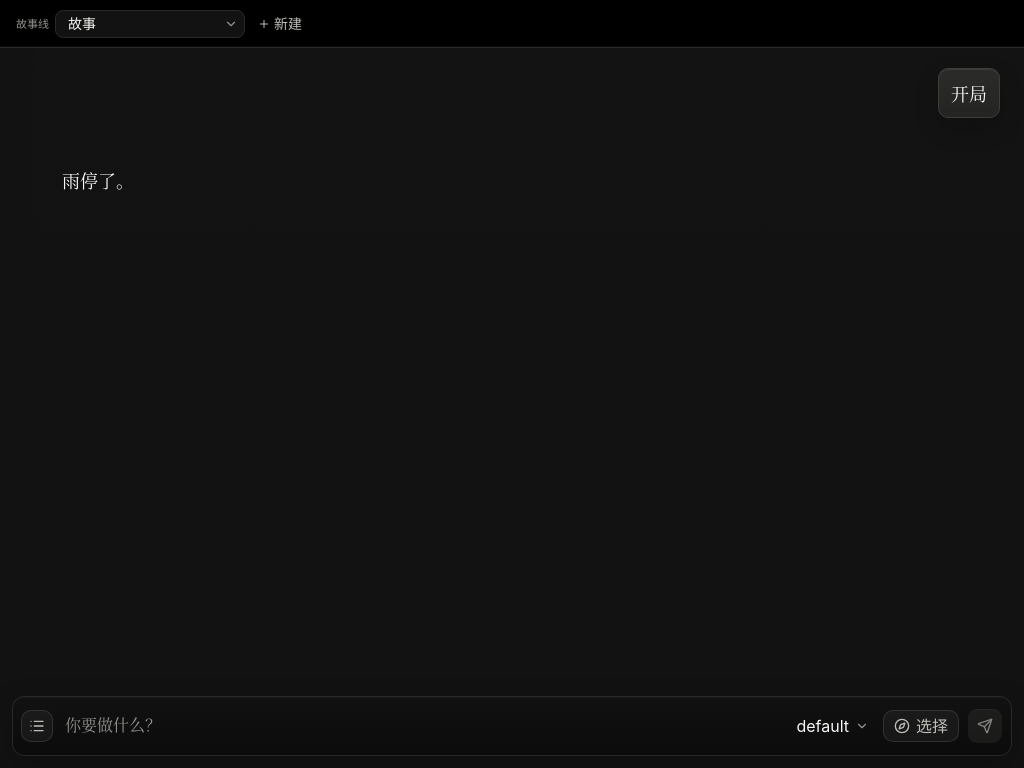
it: StoryStage composer › keeps forward actions available while the initial director plan runs in the background
Check: the button with aria-label "获取行动选择" is enabled, box [883,710,959,742]
Type "继续前进" into the field with placeholder "你要做什么？" at (422, 726), box [65,714,778,738]
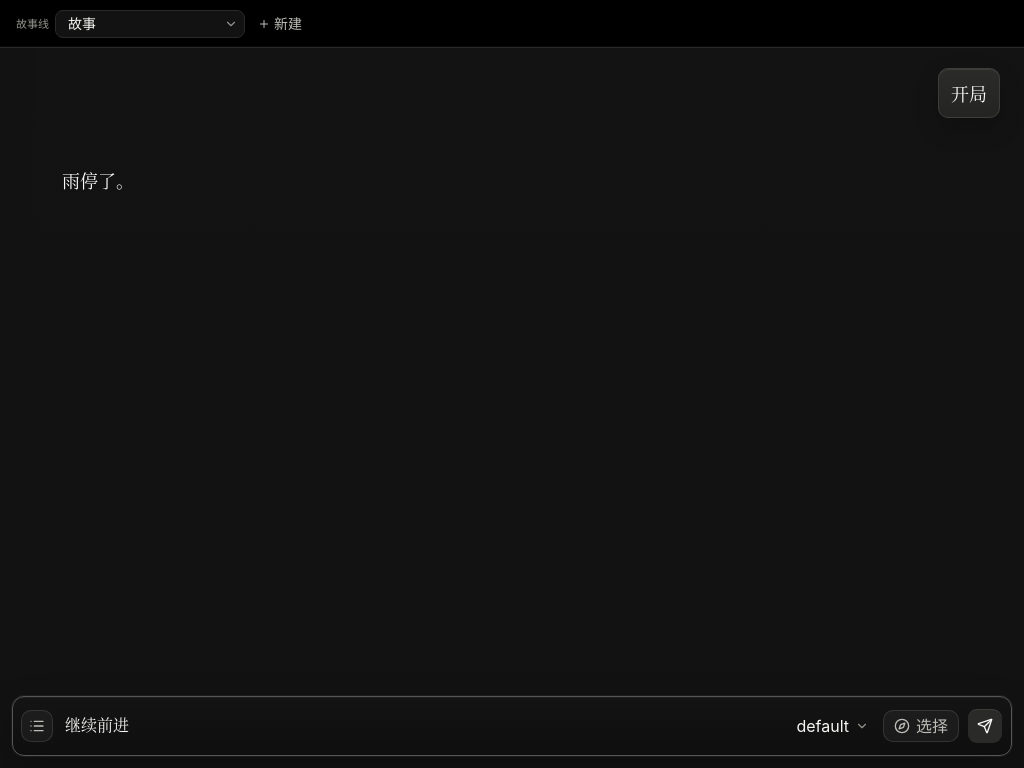
Check: the button named "发送" is enabled, box [967,708,1003,744]
Click the button with aria-label "获取行动选择" at (921, 726), box [883,710,959,742]
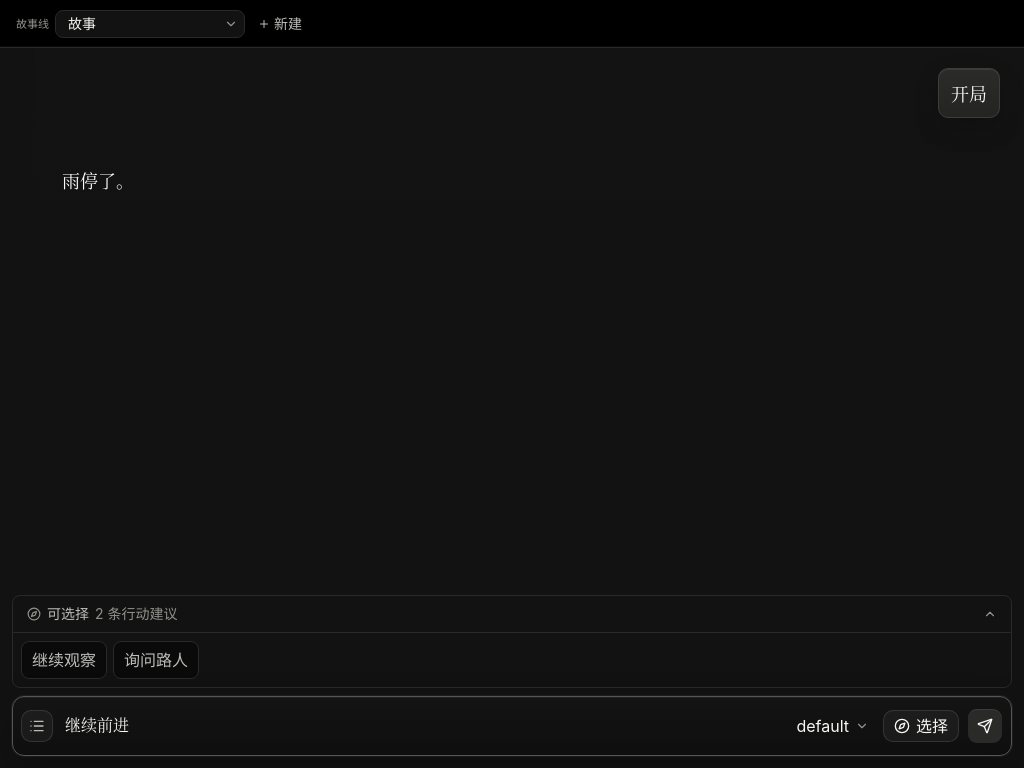
Check: the text "继续观察" is shown, box [32,648,96,672]
